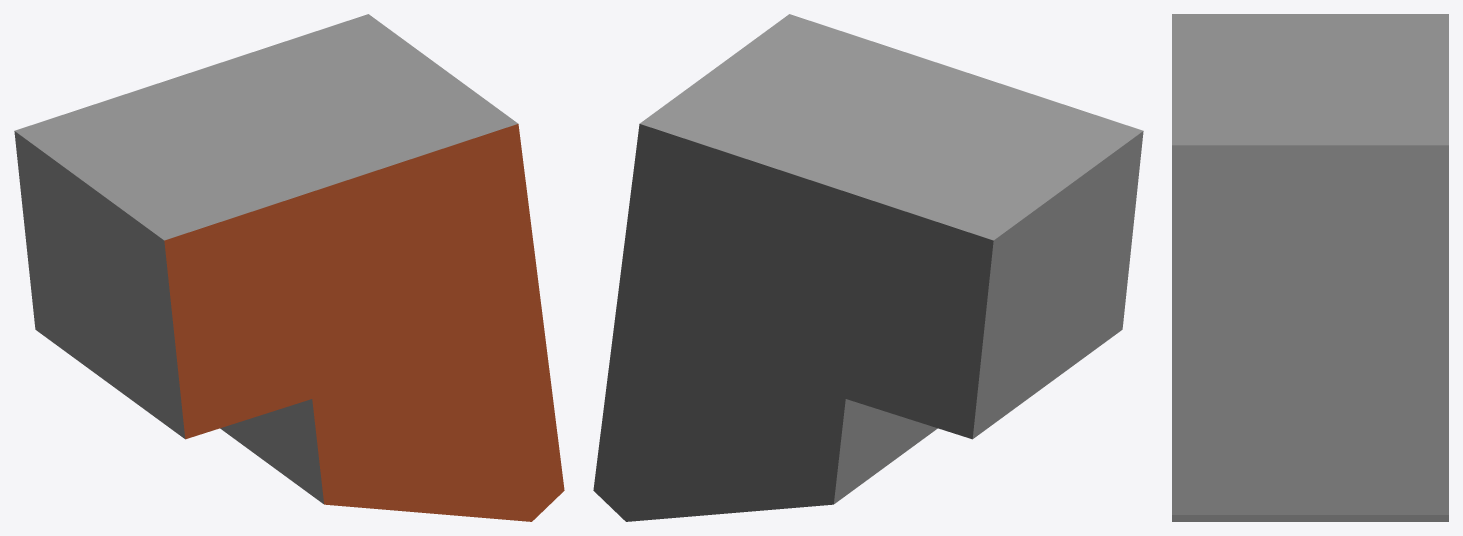
Rendered from construction_0806_assumed_A_Casa_h6m.obj.
3 views of the same model, side by side, from view 1: azimuth 30°, elevation 25°; view 2: azimuth 150°, elevation 25°; view 3: azimuth 270°, elevation 25° (orthographic). The views are drawn at different scales.
Visible parts, largest first — view 1: construction_0806_assumed_A_Casa; view 2: construction_0806_assumed_A_Casa; view 3: construction_0806_assumed_A_Casa.
Boxes of the visible parts, left/top/right/bottom form: construction_0806_assumed_A_Casa: left=14, top=14, right=564, bottom=521; construction_0806_assumed_A_Casa: left=593, top=14, right=1143, bottom=521; construction_0806_assumed_A_Casa: left=1172, top=14, right=1448, bottom=521.
Size of the model in its own units: 9.25 by 8.86 by 6.
